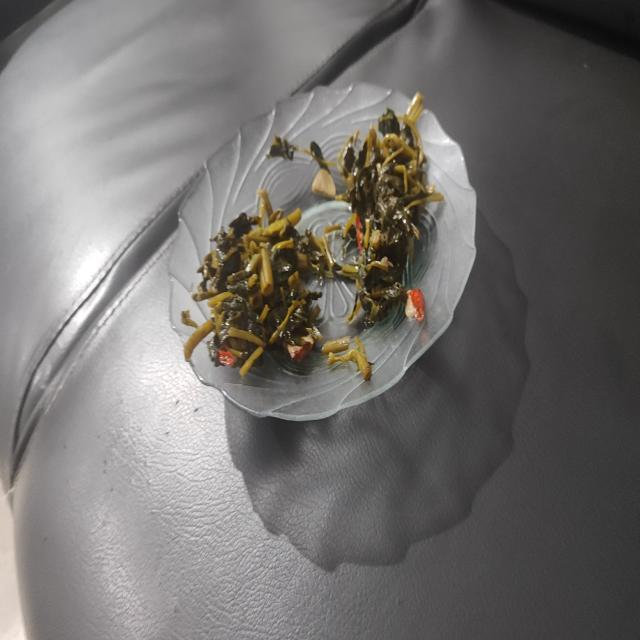tumis_kangkung: (182, 189, 336, 376), (338, 94, 444, 326)
